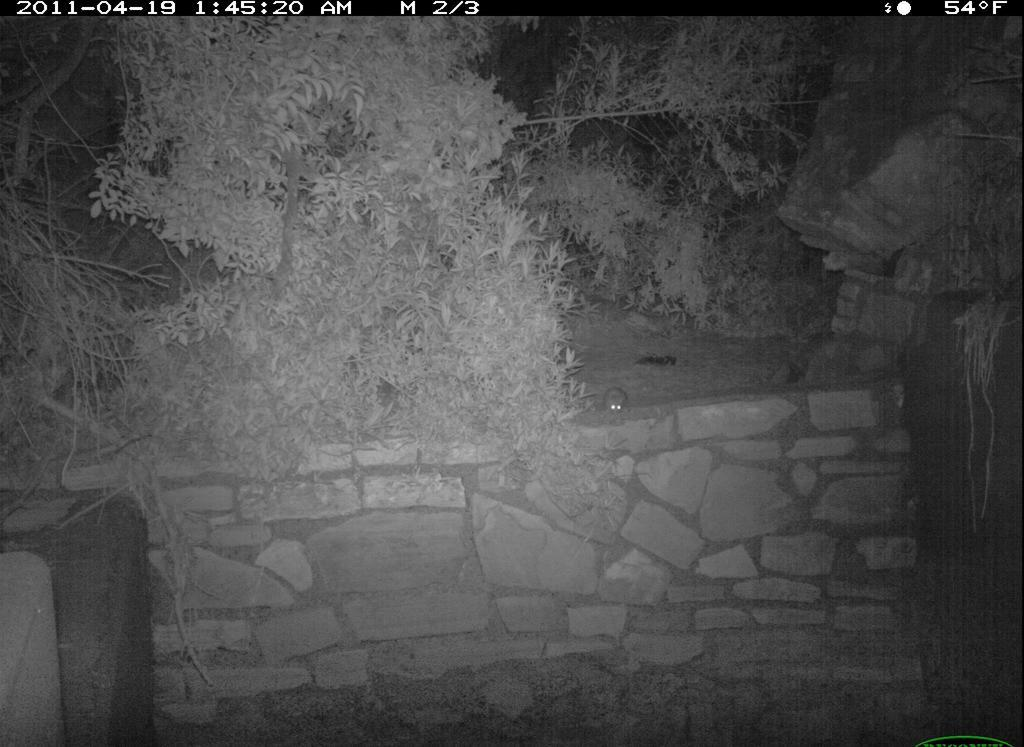rodent: (598, 377, 635, 429)
